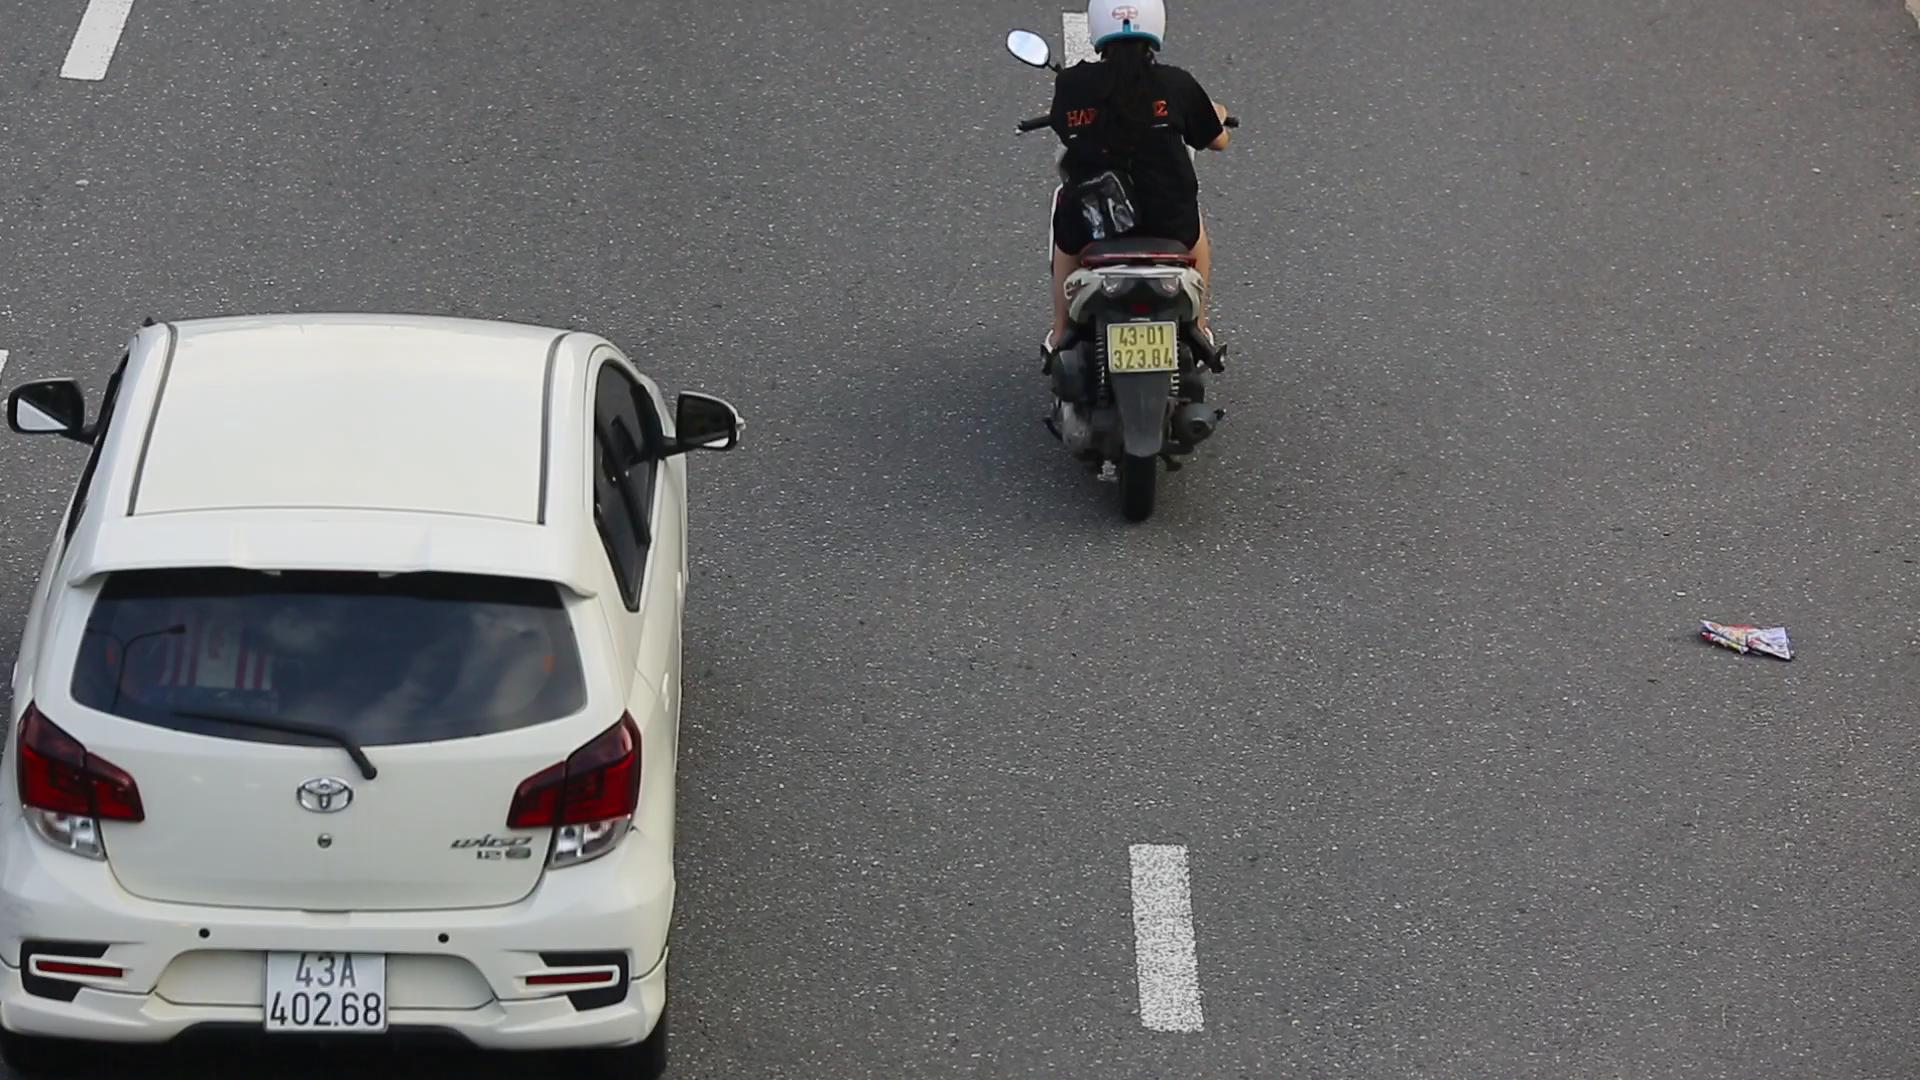motobike: (996, 4, 1245, 538)
